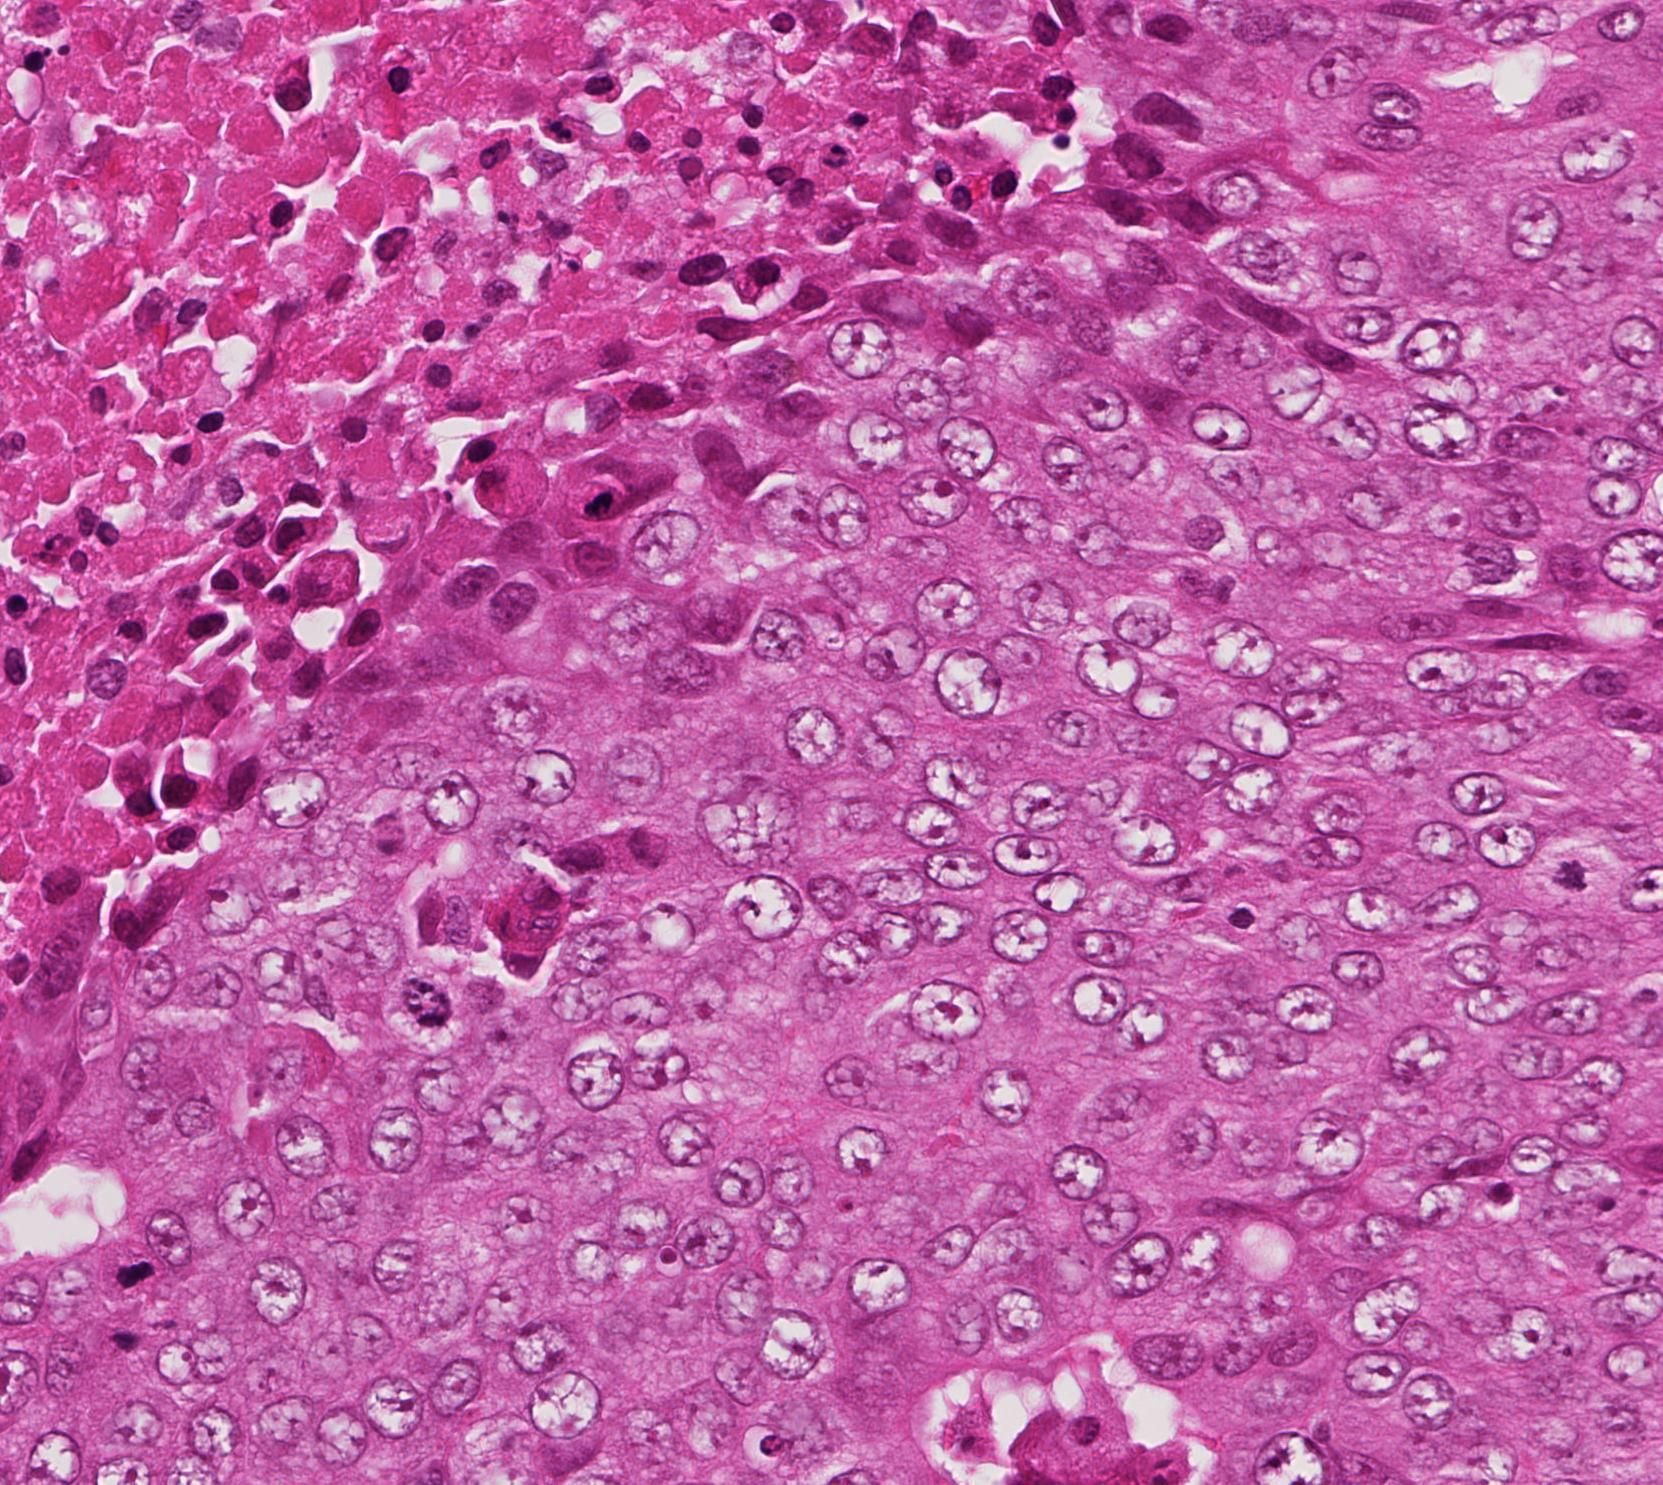mitosis: (1540, 844, 1600, 904), (394, 966, 454, 1026), (100, 1246, 161, 1304)
